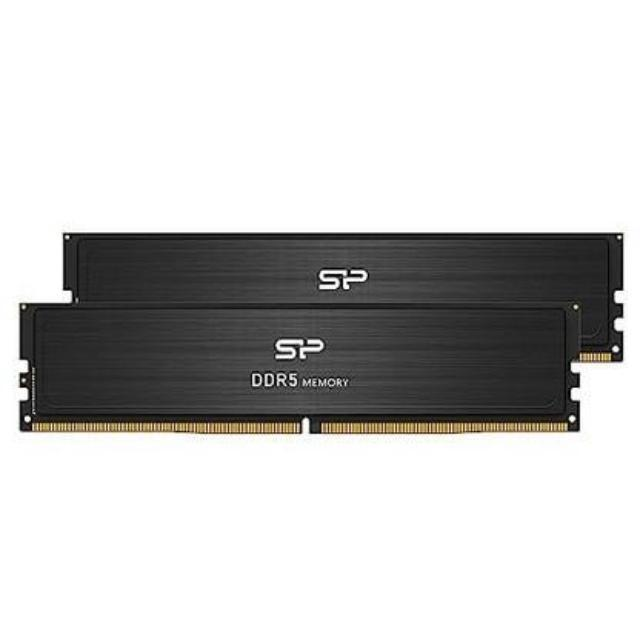RAM: (14, 218, 631, 444)
